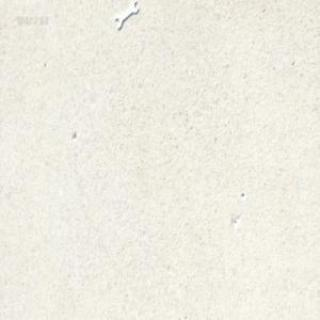Wrenchtrack_idkeyframe: (114, 0, 138, 29)
